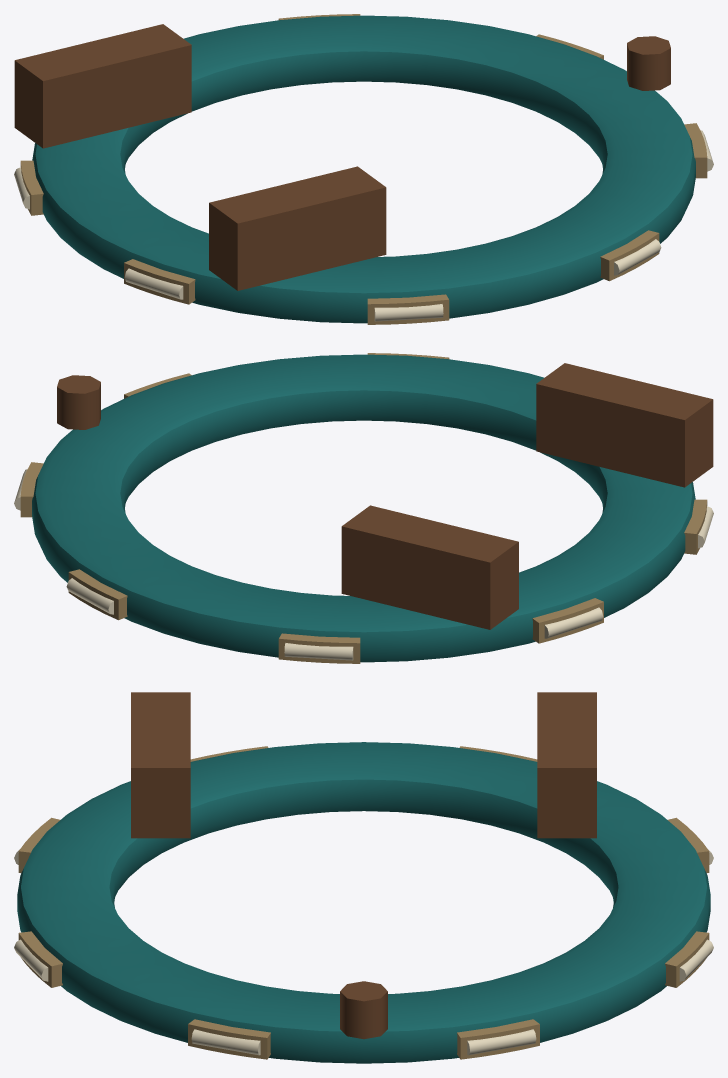
File: k1_mount.obj
The picture shows the model from 3 angles, top to bottom: view 1: azimuth 30°, elevation 25°; view 2: azimuth 150°, elevation 25°; view 3: azimuth 270°, elevation 25°; orthographic projection. The views are drawn at different scales.
Parts seen in each view (by area): view 1: k1_mount; view 2: k1_mount; view 3: k1_mount.
Boxes of the visible parts, <box> form: k1_mount: <box>14,14,713,324</box>; k1_mount: <box>14,353,713,663</box>; k1_mount: <box>14,692,713,1063</box>.
Bounding box in the file's own units: 1.2 × 0.2 × 1.17.
